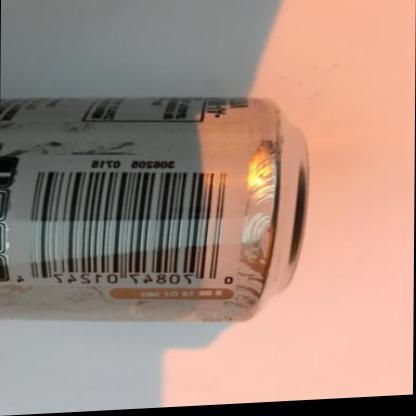trash: (0, 98, 308, 320)
